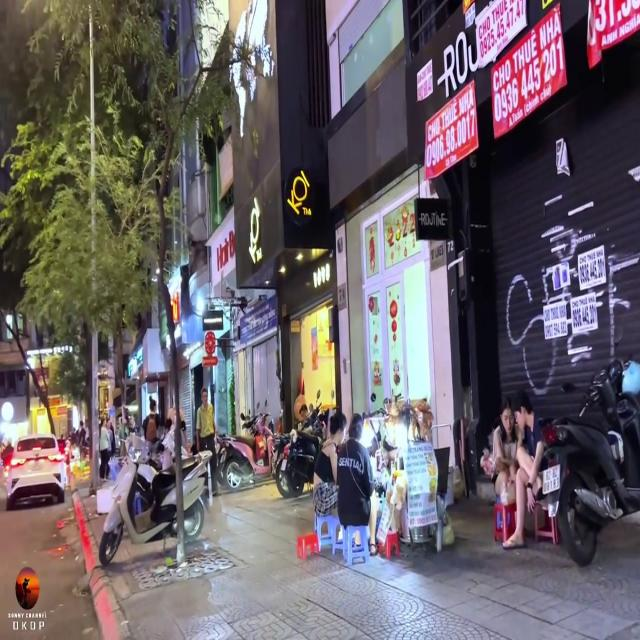bien_trang: (544, 468, 562, 496)
